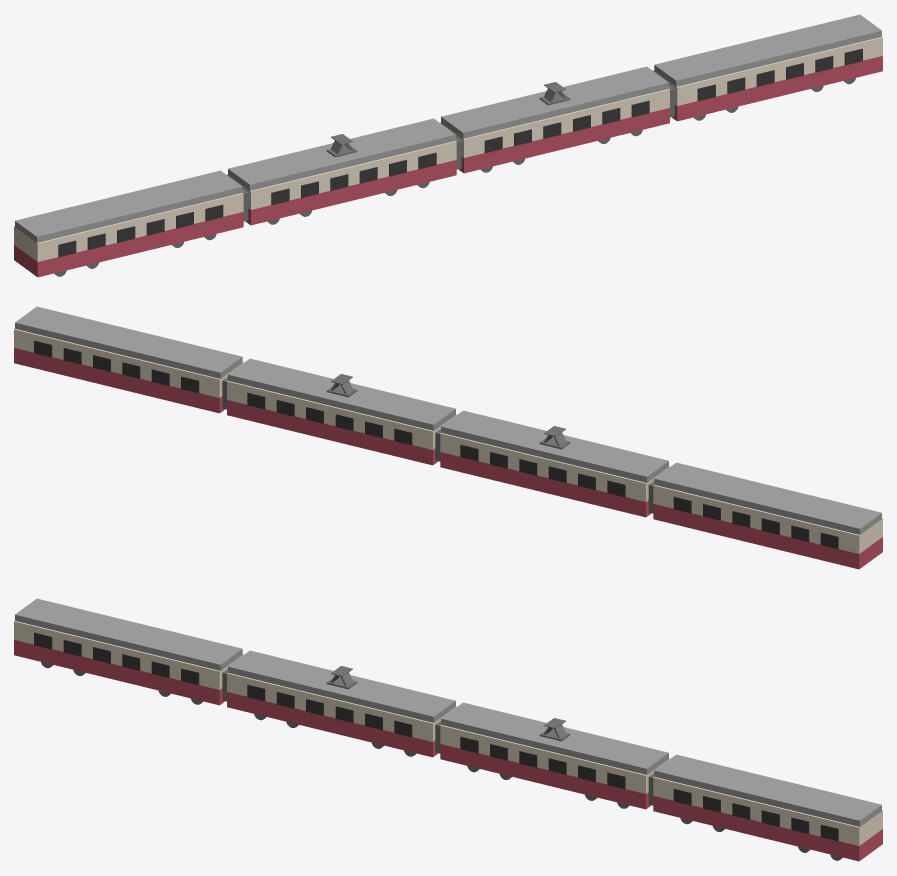
The model's file is Train.glb.
3 views of the same model, one above another, from view 1: azimuth 30°, elevation 25°; view 2: azimuth 150°, elevation 25°; view 3: azimuth 330°, elevation 25° (orthographic).
Parts seen in each view (by area): view 1: Roof_3, Roof_0, Roof_2, Roof_1, Body_Red_0, Body_Red_1, Body_Red_3, Body_Red_2, Body_Cream_0, Body_Cream_1, Body_Cream_2, Body_Cream_3; view 2: Roof_3, Roof_0, Roof_2, Roof_1, Body_Red_0, Body_Red_1, Body_Red_3, Body_Red_2, Body_Cream_0, Body_Cream_1, Body_Cream_2, Body_Cream_3; view 3: Roof_0, Roof_3, Roof_1, Roof_2, Body_Red_3, Body_Red_0, Body_Red_2, Body_Red_1, Body_Cream_3, Body_Cream_2, Body_Cream_1, Body_Cream_0.
Part boxes in pixels (x1=…): Roof_3: x1=654, y1=14, x2=881, y2=86; Roof_0: x1=15, y1=170, x2=242, y2=242; Roof_2: x1=441, y1=66, x2=668, y2=138; Roof_1: x1=228, y1=118, x2=455, y2=190; Body_Red_0: x1=14, y1=212, x2=243, y2=277; Body_Red_1: x1=245, y1=160, x2=456, y2=225; Body_Red_3: x1=672, y1=56, x2=882, y2=121; Body_Red_2: x1=459, y1=108, x2=669, y2=173; Body_Cream_0: x1=14, y1=193, x2=243, y2=261; Body_Cream_1: x1=227, y1=141, x2=456, y2=209; Body_Cream_2: x1=440, y1=89, x2=669, y2=157; Body_Cream_3: x1=653, y1=37, x2=882, y2=105; Roof_3: x1=15, y1=306, x2=242, y2=378; Roof_0: x1=654, y1=462, x2=881, y2=534; Roof_2: x1=228, y1=358, x2=455, y2=430; Roof_1: x1=441, y1=410, x2=668, y2=482; Body_Red_0: x1=653, y1=504, x2=882, y2=569; Body_Red_1: x1=440, y1=452, x2=651, y2=517; Body_Red_3: x1=14, y1=348, x2=224, y2=413; Body_Red_2: x1=227, y1=400, x2=437, y2=465; Body_Cream_0: x1=653, y1=485, x2=882, y2=553; Body_Cream_1: x1=440, y1=433, x2=669, y2=501; Body_Cream_2: x1=227, y1=381, x2=456, y2=449; Body_Cream_3: x1=14, y1=329, x2=243, y2=397; Roof_0: x1=15, y1=598, x2=242, y2=670; Roof_3: x1=654, y1=754, x2=881, y2=826; Roof_1: x1=228, y1=650, x2=455, y2=722; Roof_2: x1=441, y1=702, x2=668, y2=774; Body_Red_3: x1=653, y1=796, x2=882, y2=861; Body_Red_0: x1=14, y1=640, x2=224, y2=705; Body_Red_2: x1=440, y1=744, x2=651, y2=809; Body_Red_1: x1=227, y1=692, x2=437, y2=757; Body_Cream_3: x1=653, y1=777, x2=882, y2=845; Body_Cream_2: x1=440, y1=725, x2=669, y2=793; Body_Cream_1: x1=227, y1=673, x2=456, y2=741; Body_Cream_0: x1=14, y1=621, x2=243, y2=689.
Size of the model in its own units: 57.5 by 4.04 by 2.9.
